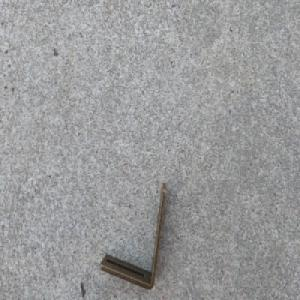MetalPart: (98, 181, 168, 292)
